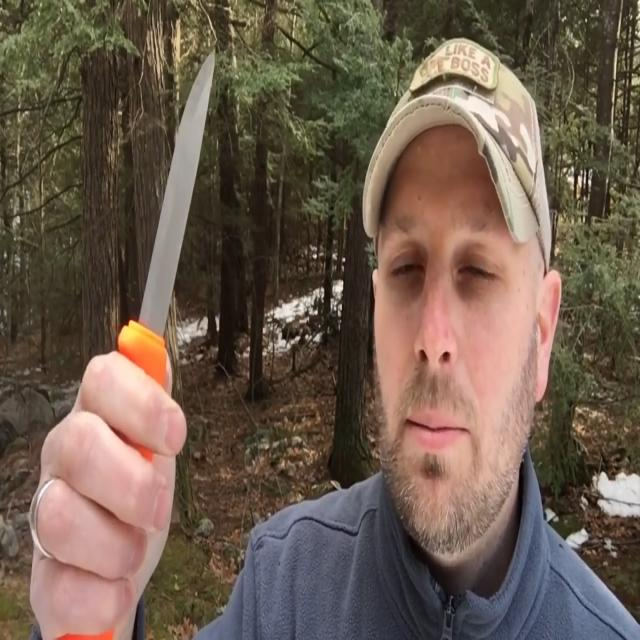knife: (129, 34, 221, 378)
